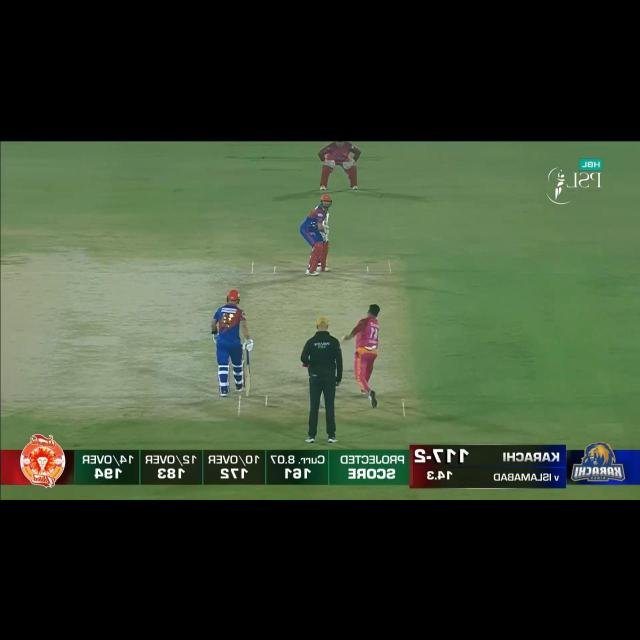bat: (245, 364, 253, 399), (324, 211, 331, 228)
toe: (246, 391, 250, 398), (325, 212, 330, 216)
